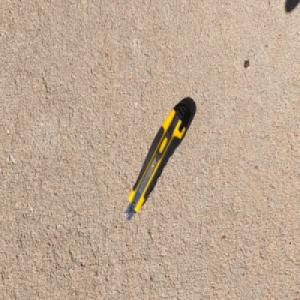Cutter: (124, 101, 191, 222)
